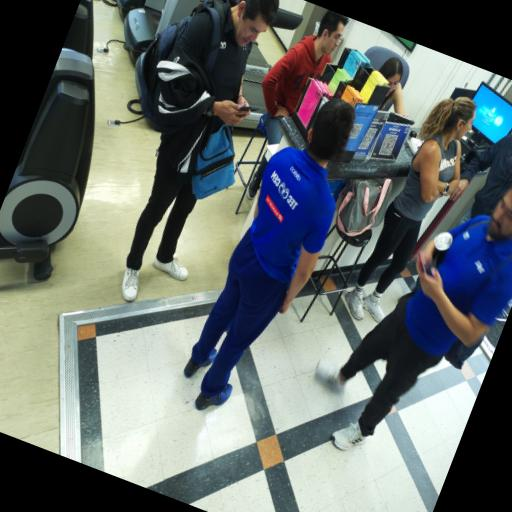person: (183, 99, 354, 409), (315, 186, 511, 449), (121, 0, 278, 301), (345, 97, 475, 321), (261, 10, 347, 144), (450, 135, 511, 223), (378, 57, 406, 116)
